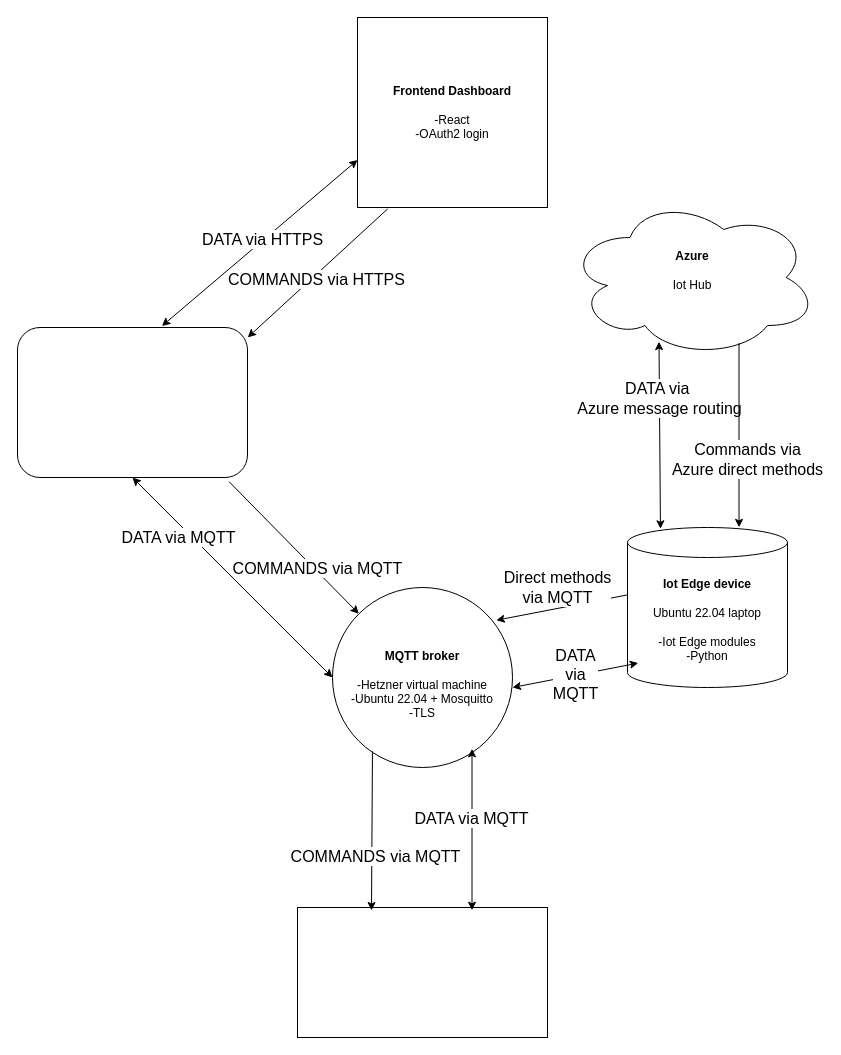
Some shapes in this 841 by 1055 pixel diagram are drawn without their labels. Each missing label, with the centre of its shape:
API -FastApi -Python -HTTPS, REST -OAuth2 validation: (x=132, y=402)
Thermostat - ESP32C3 - Nht22 sensor -5V relay + indicator LED -MicroPython: (x=422, y=972)
